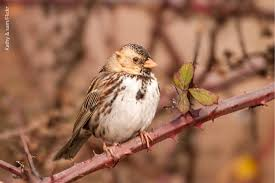hsparrow: (56, 41, 157, 167)
